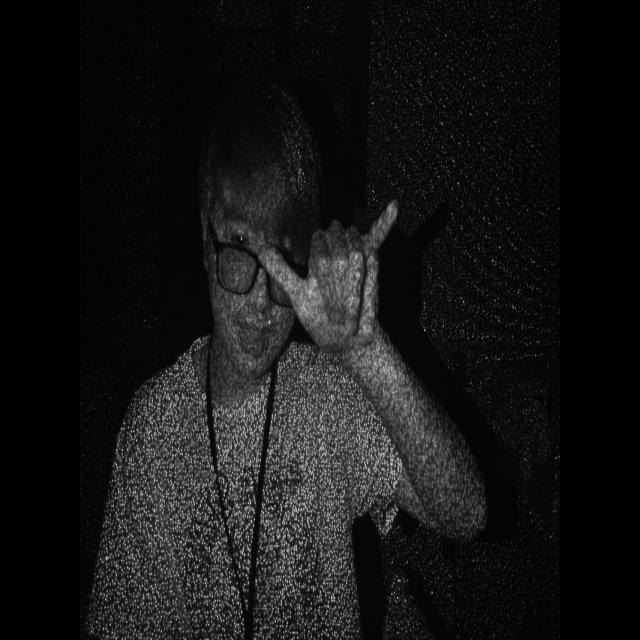Y: (225, 178, 418, 369)
